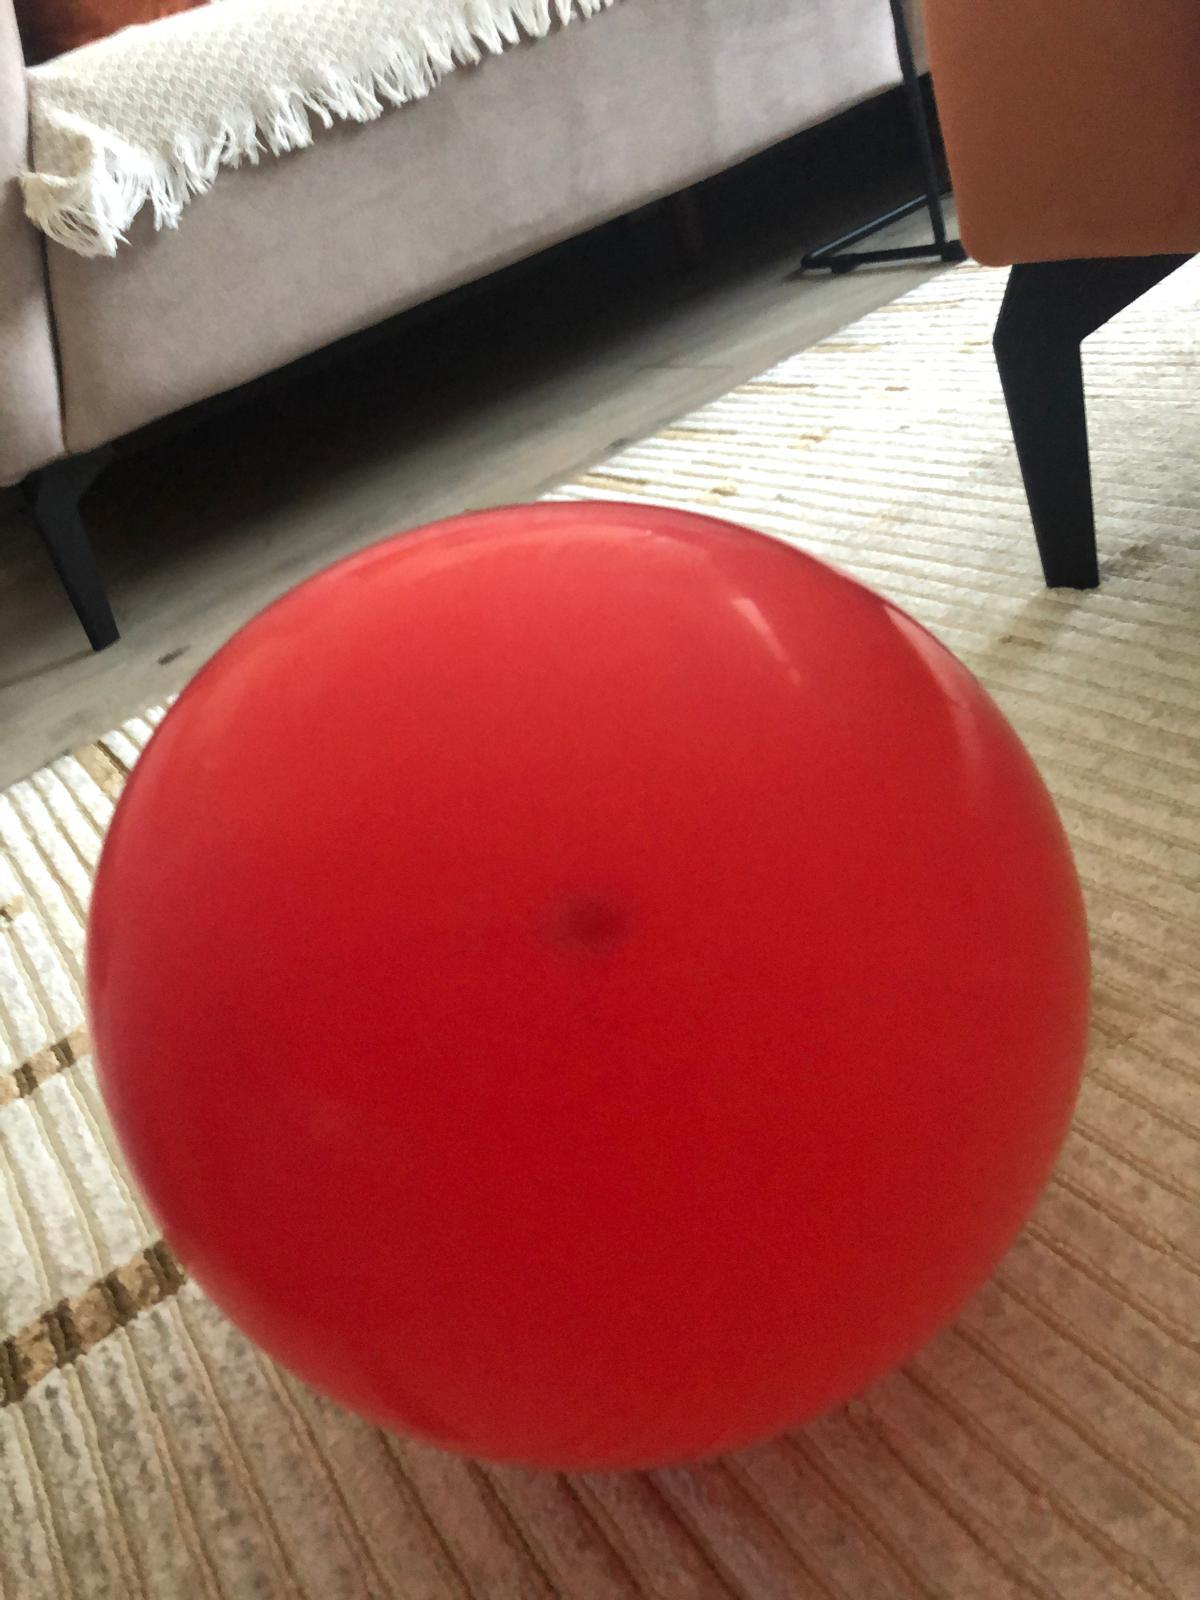red: (86, 506, 1102, 1464)
